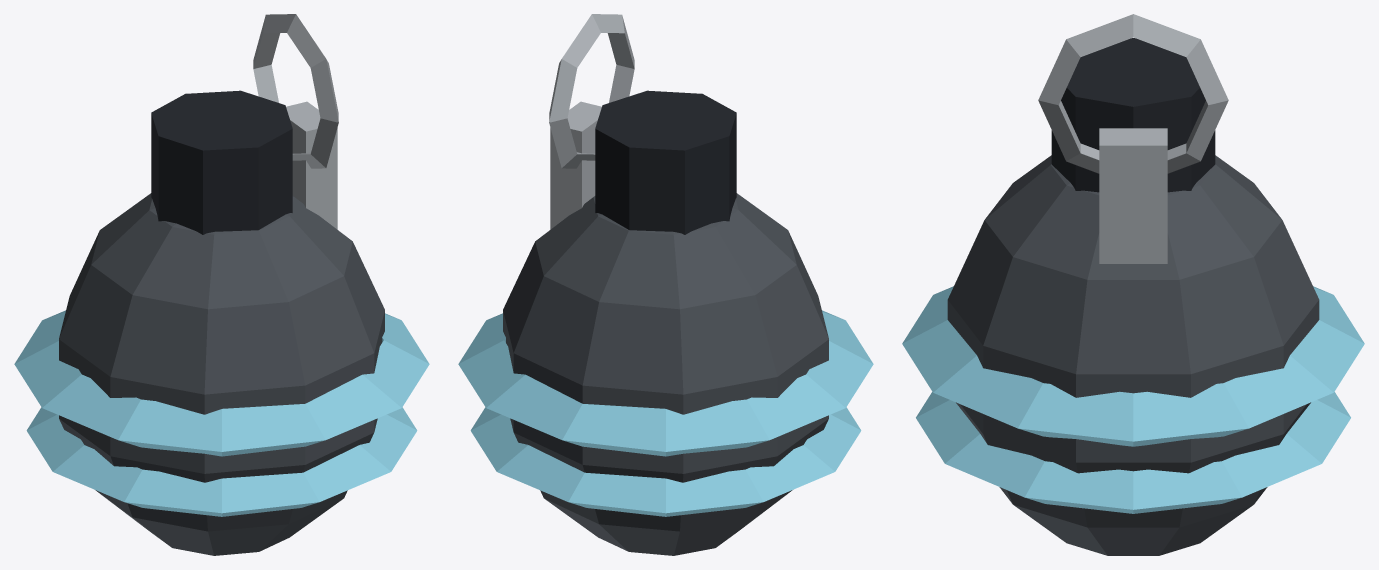
The model's file is grenade-cryo.glb.
The picture shows the model from 3 angles, left to right: view 1: azimuth 30°, elevation 25°; view 2: azimuth 150°, elevation 25°; view 3: azimuth 270°, elevation 25°; orthographic projection. The views are drawn at different scales.
Visible parts, largest first — view 1: m; view 2: m; view 3: m.
Boxes of the visible parts, left/top/right/bottom form: m: left=14, top=14, right=429, bottom=555; m: left=458, top=14, right=873, bottom=555; m: left=902, top=14, right=1364, bottom=555.
Bounding box in the file's own units: 0.059 × 0.08 × 0.059.
